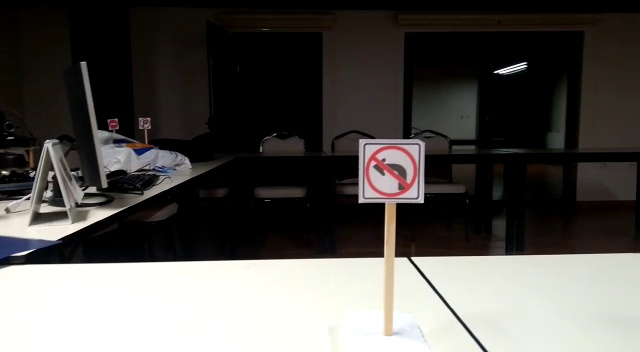sola_donulmez: (364, 145, 422, 199)
